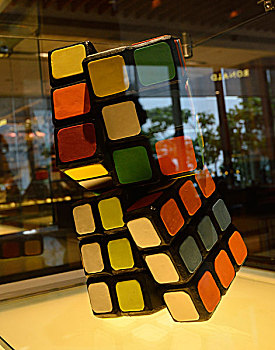cube: (75, 180, 249, 325), (48, 36, 207, 187)
